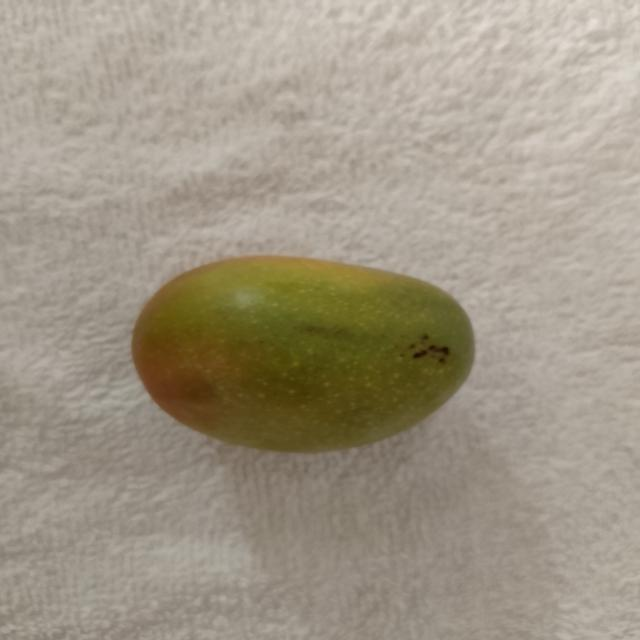mango: (133, 257, 473, 451)
